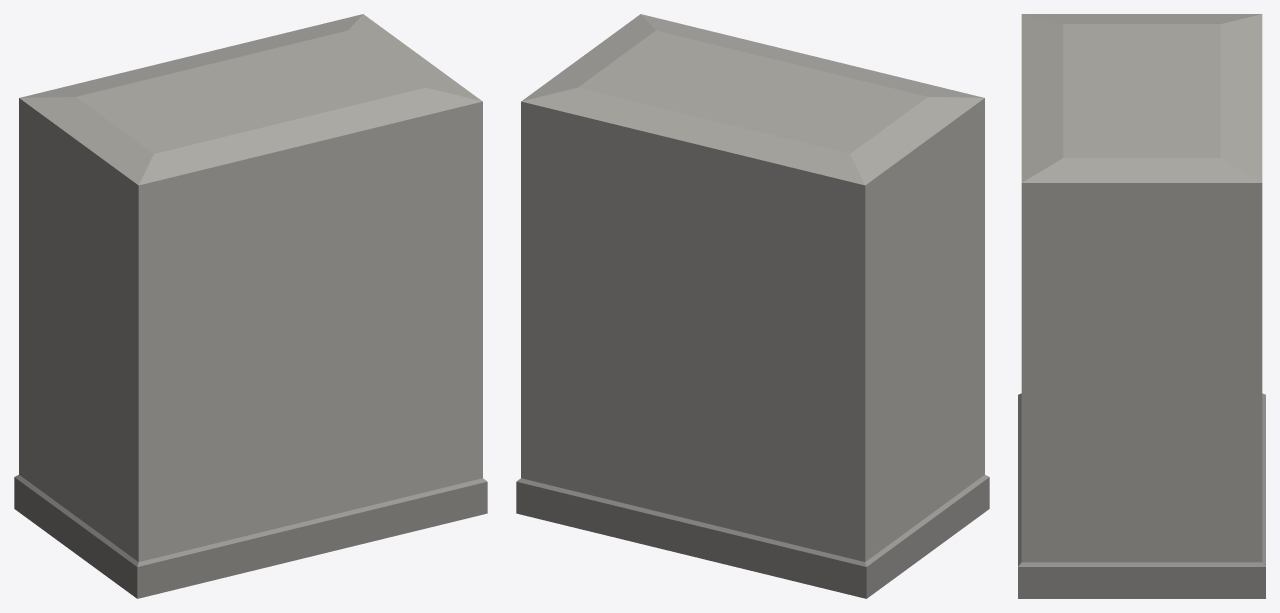
Rendered from SM_Props_Interior_Shop_Light_WallLight_04.fbx.
3 views of the same model, side by side, from view 1: azimuth 30°, elevation 25°; view 2: azimuth 150°, elevation 25°; view 3: azimuth 270°, elevation 25° (orthographic).
Parts seen in each view (by area): view 1: SM_Props_Interior_Shop_Light_WallLight_04; view 2: SM_Props_Interior_Shop_Light_WallLight_04; view 3: SM_Props_Interior_Shop_Light_WallLight_04.
Boxes of the visible parts, x1=… form: SM_Props_Interior_Shop_Light_WallLight_04: x1=14, y1=14, x2=487, y2=598; SM_Props_Interior_Shop_Light_WallLight_04: x1=516, y1=14, x2=989, y2=598; SM_Props_Interior_Shop_Light_WallLight_04: x1=1018, y1=14, x2=1265, y2=598.
Bounding box in the file's own units: 23 × 26.29 × 14.
